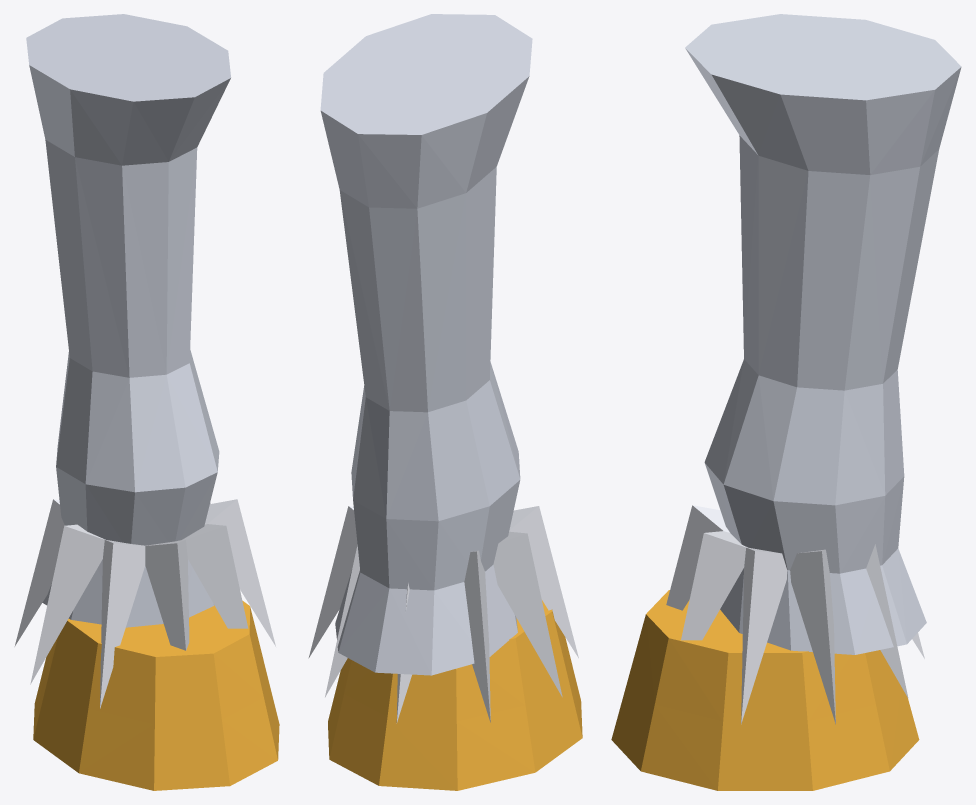
The model's file is BossSteedHindShin.obj.
3 views of the same model, side by side, from view 1: azimuth 30°, elevation 25°; view 2: azimuth 150°, elevation 25°; view 3: azimuth 270°, elevation 25° (orthographic). The views are drawn at different scales.
Visible parts, largest first — view 1: BossSteedHindShin; view 2: BossSteedHindShin; view 3: BossSteedHindShin.
Part boxes in pixels (bbox=[...]): BossSteedHindShin: bbox=[14, 14, 279, 790]; BossSteedHindShin: bbox=[308, 14, 582, 790]; BossSteedHindShin: bbox=[611, 14, 961, 790].
Bounding box in the file's own units: 0.6983 × 1.98 × 0.9087.
